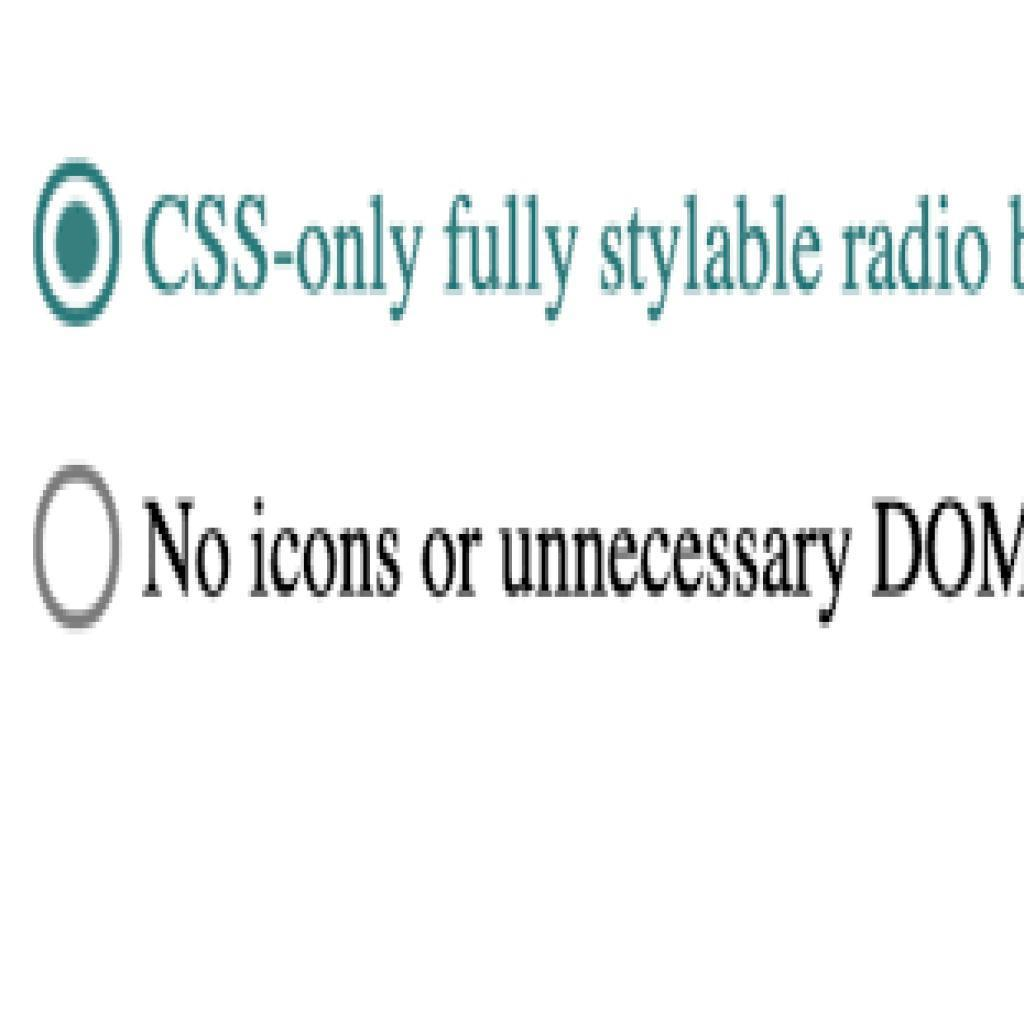radio: (25, 458, 127, 633), (31, 152, 127, 333)
